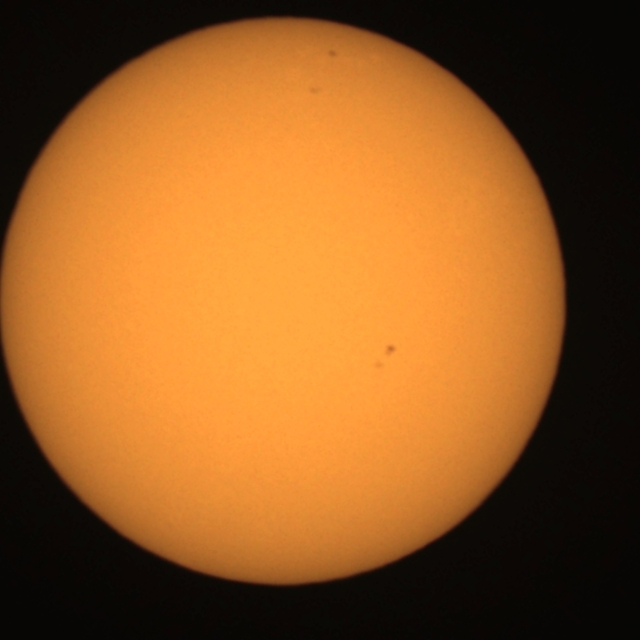sunspot: (372, 343, 398, 371), (382, 343, 398, 360), (326, 48, 338, 60)
